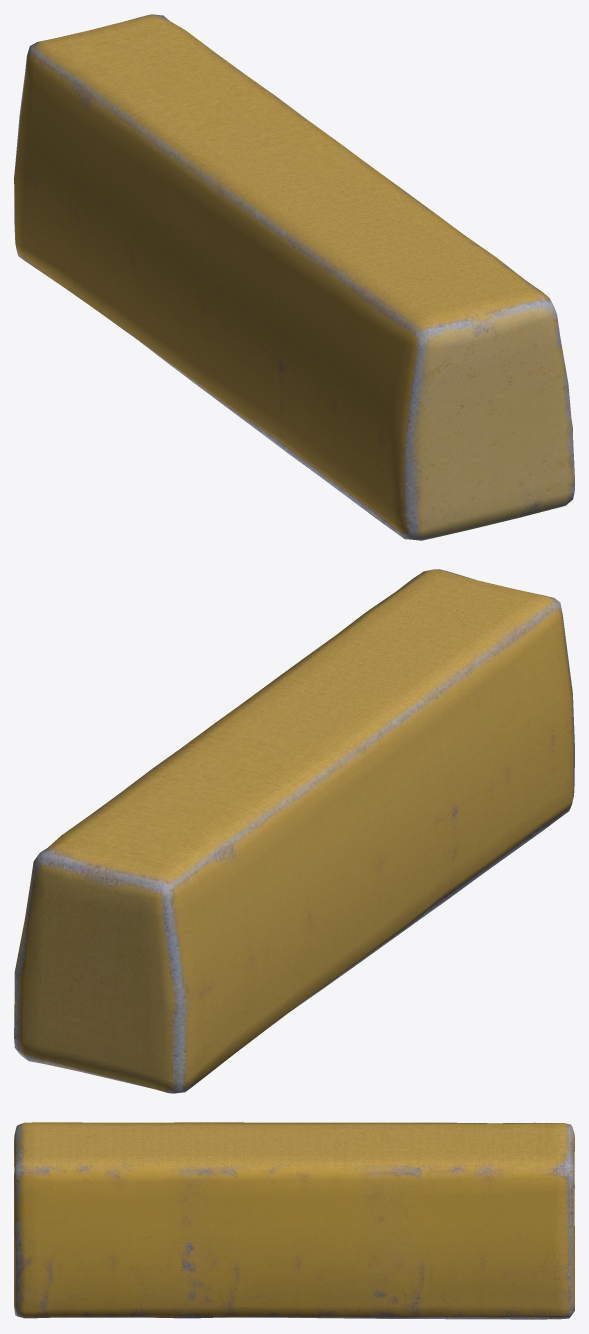
The model's file is RoadCurbYellowClean.fbx.
3 views of the same model, one above another, from view 1: azimuth 30°, elevation 25°; view 2: azimuth 150°, elevation 25°; view 3: azimuth 270°, elevation 25° (orthographic). The views are drawn at different scales.
Visible parts, largest first — view 1: tripo_node_5a000da6; view 2: tripo_node_5a000da6; view 3: tripo_node_5a000da6.
Part boxes in pixels (x1,y1,x2,y2): tripo_node_5a000da6: (14,14,574,540); tripo_node_5a000da6: (14,569,574,1093); tripo_node_5a000da6: (14,1122,574,1319).
Bounding box in the file's own units: 24.89 × 29.02 × 97.94.
Materials: 1 (1 with a texture image).
